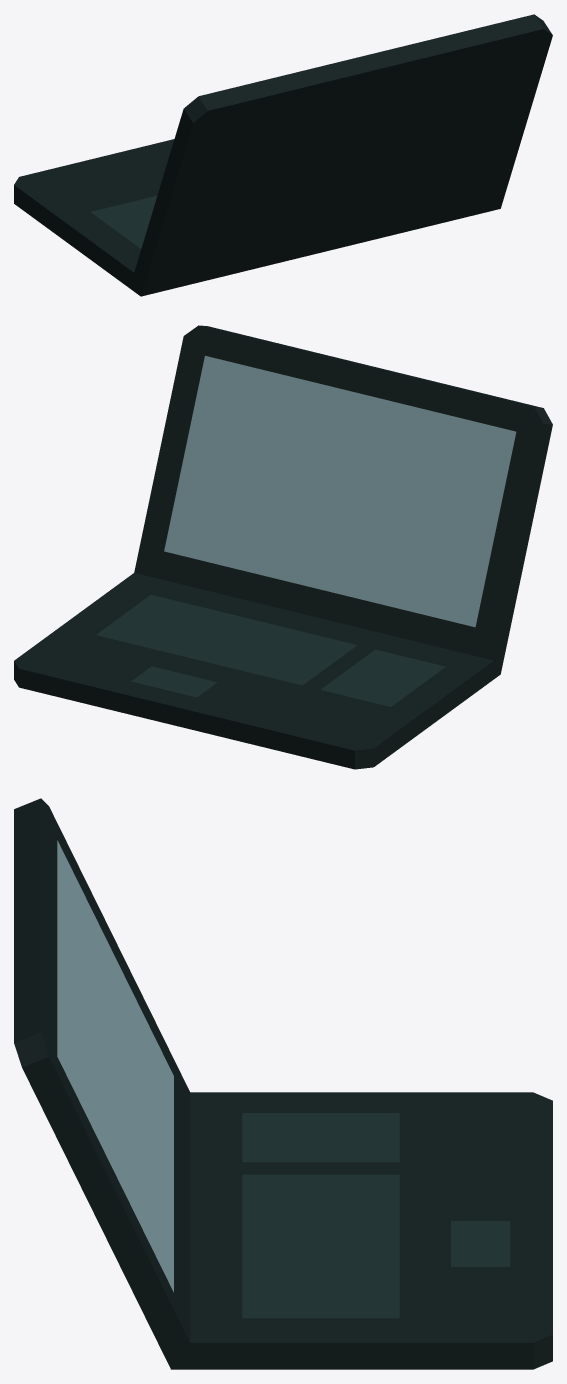
File: laptop.obj
3 views of the same model, one above another, from view 1: azimuth 30°, elevation 25°; view 2: azimuth 150°, elevation 25°; view 3: azimuth 270°, elevation 25° (orthographic). The views are drawn at different scales.
Parts seen in each view (by area): view 1: laptop; view 2: laptop; view 3: laptop.
Part boxes in pixels (x1,y1,x2,y2): laptop: [14, 14, 552, 296]; laptop: [14, 325, 552, 769]; laptop: [14, 798, 552, 1369].
Bounding box in the file's own units: 0.264 × 0.1618 × 0.2401.
